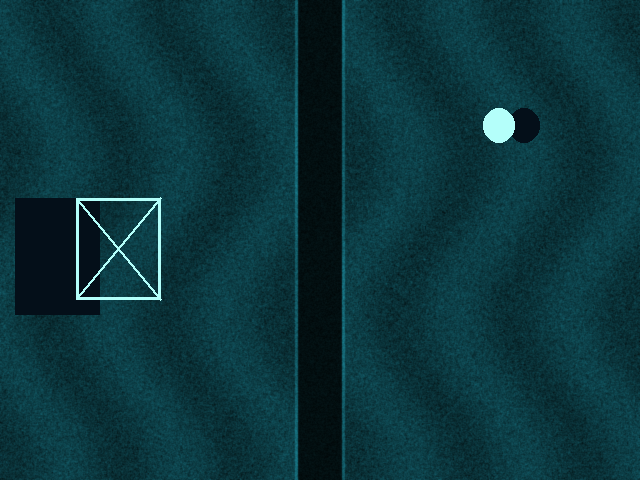Abandoned Equipment: (76, 198, 160, 299)
Glass Debris: (483, 108, 514, 142)
